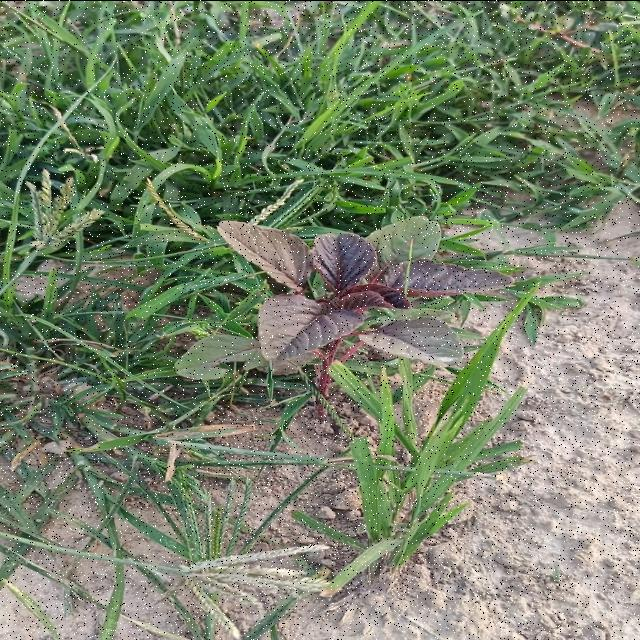plant: (178, 216, 513, 376), (359, 319, 462, 365)
